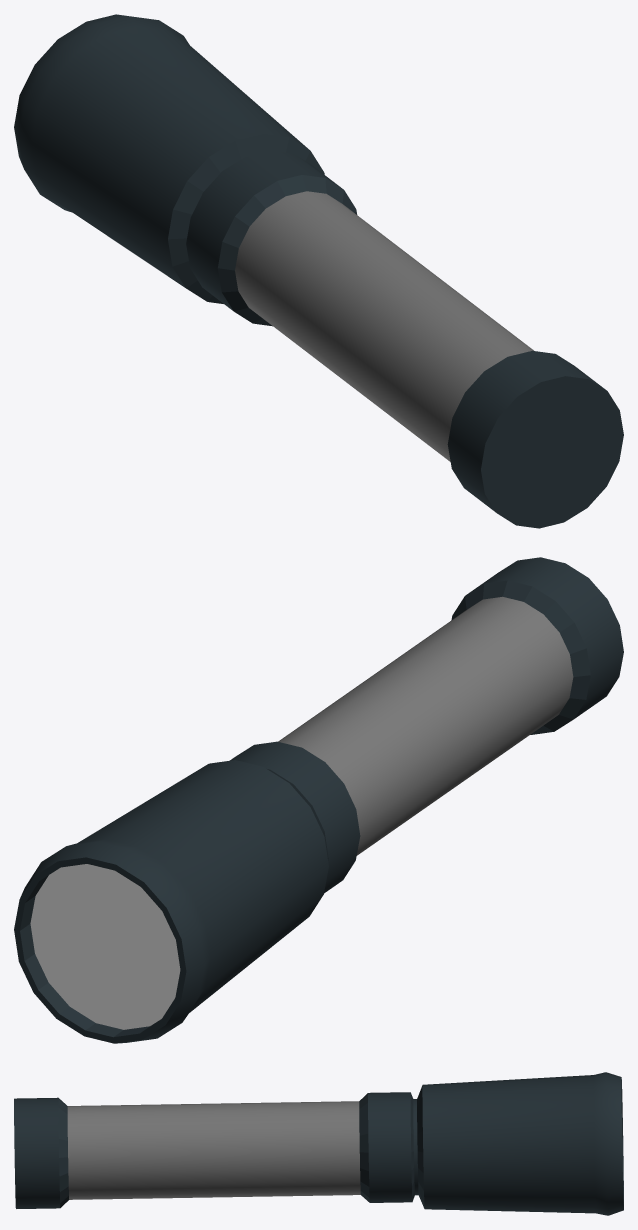
The model's file is torch.FBX.
3 renders of one model, top to bottom at view 1: azimuth 30°, elevation 25°; view 2: azimuth 150°, elevation 25°; view 3: azimuth 270°, elevation 25°, orthographic. The views are drawn at different scales.
Visible parts, largest first — view 1: torch; view 2: torch; view 3: torch.
Part boxes in pixels (left/top/right/bottom): torch: left=14, top=14, right=623, bottom=528; torch: left=14, top=557, right=623, bottom=1043; torch: left=14, top=1072, right=623, bottom=1215.
Bounding box in the file's own units: 2.83 × 2.78 × 11.96.
